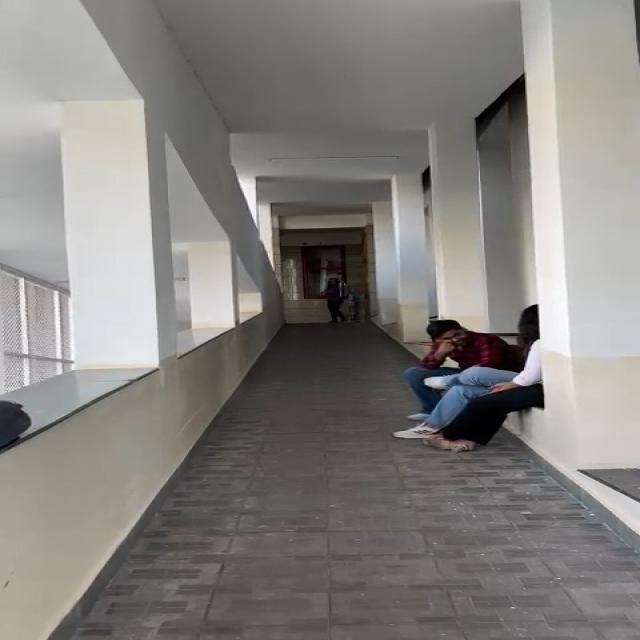floor: (158, 462, 640, 636), (265, 332, 415, 470)
moving_object: (422, 319, 560, 450)
wall: (0, 0, 176, 555), (198, 42, 500, 315)
